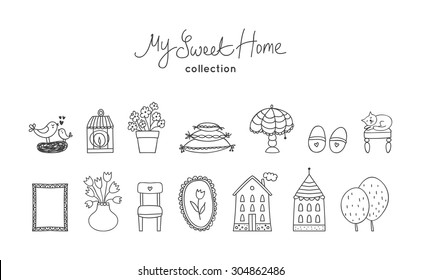bird: (27, 120, 60, 144), (57, 126, 73, 143)
building: (230, 174, 276, 235), (292, 167, 328, 233)
cat: (361, 111, 395, 132)
tree: (358, 175, 392, 232), (339, 186, 370, 232)
